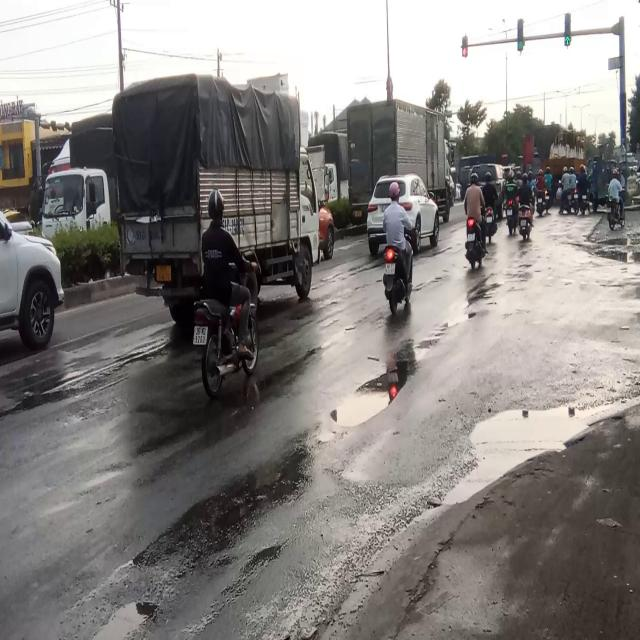bien_trang: (191, 318, 210, 353)
